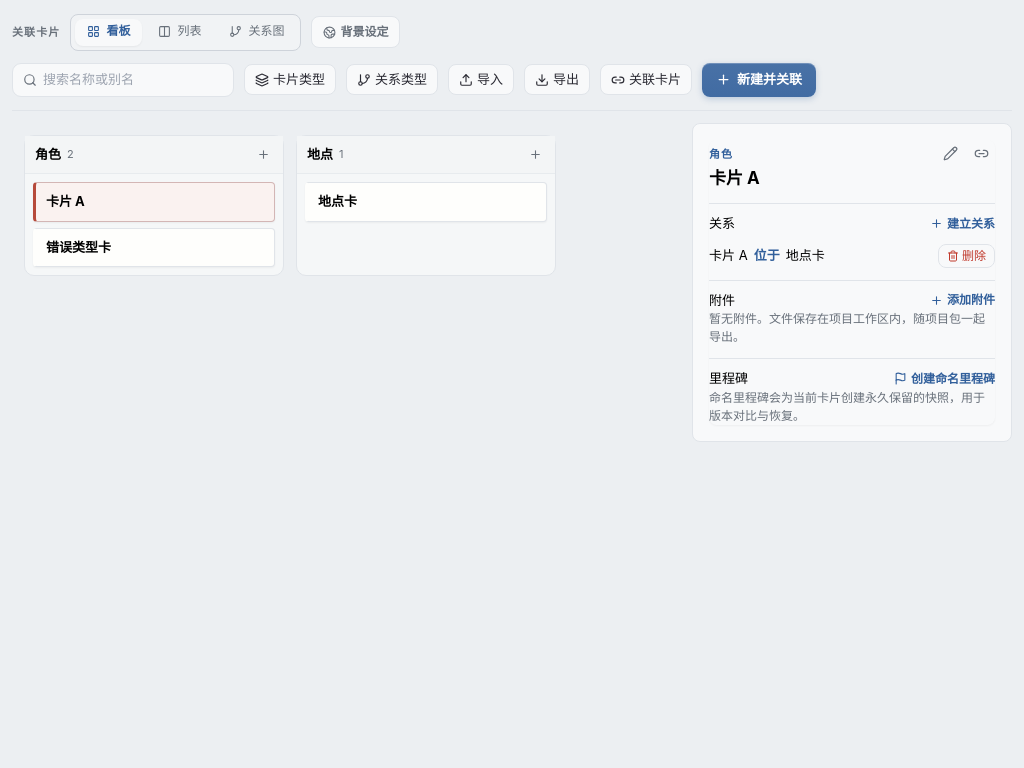
Test: 建立关系时目标过滤与语义 › 起点卡片类型不满足关系起点约束时显示警告且目标下拉禁用
Click the button "建立关系" at (962, 224), box [930, 215, 995, 233]
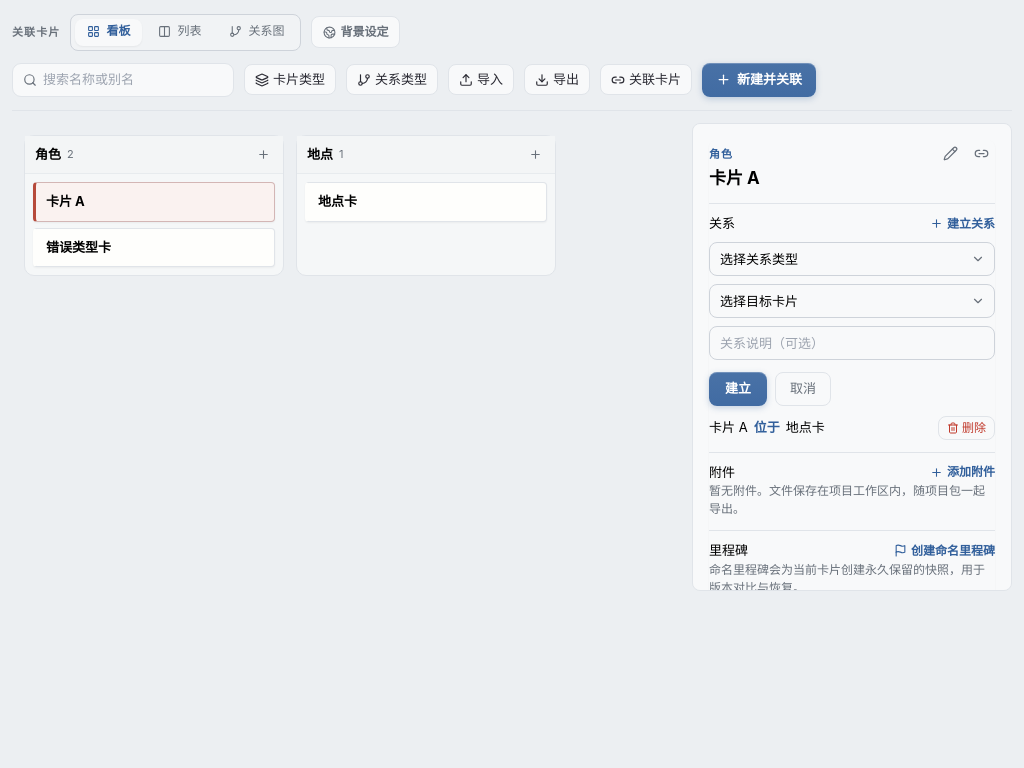
rt-2 起点约束为 location，而当前卡片 card-a 是 character，应触发不匹配警告。
Select "收藏于（反向：被收藏于）" in the 1st dropdown at (852, 258), box [709, 242, 995, 276]
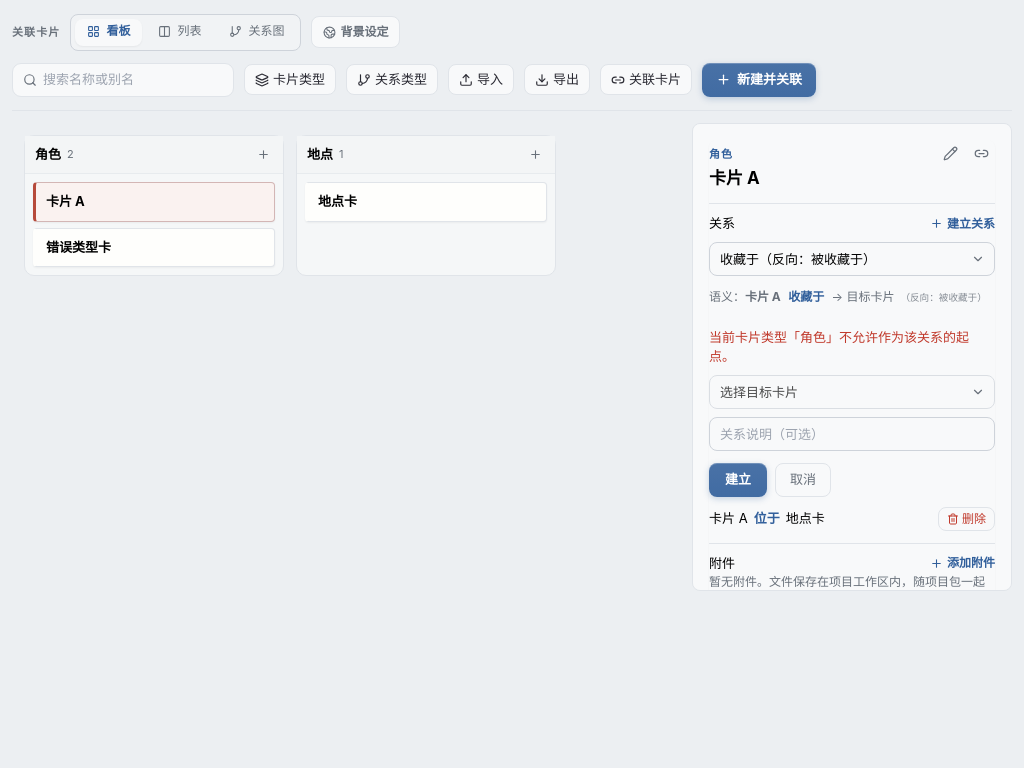
Expected: the message with class "cards-form-error" shows "不允许作为该关系的起点", [709, 328, 969, 364]
Expected: the 2nd dropdown is disabled, [709, 374, 995, 408]
